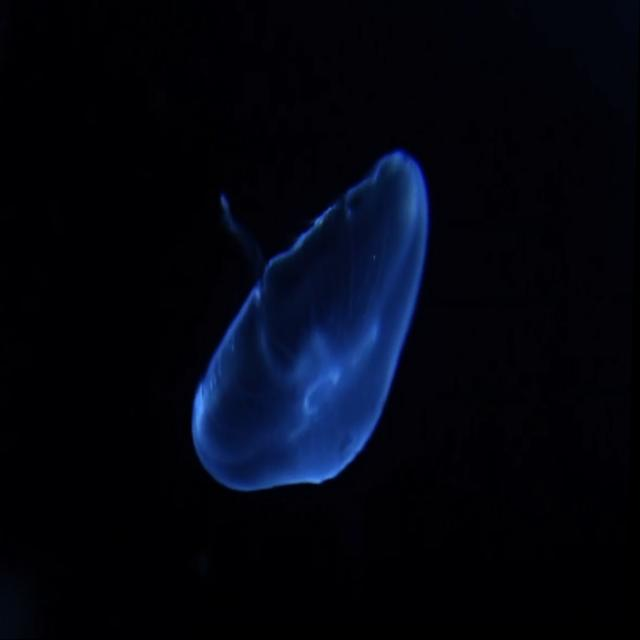Jellyfish: (192, 153, 433, 498)
